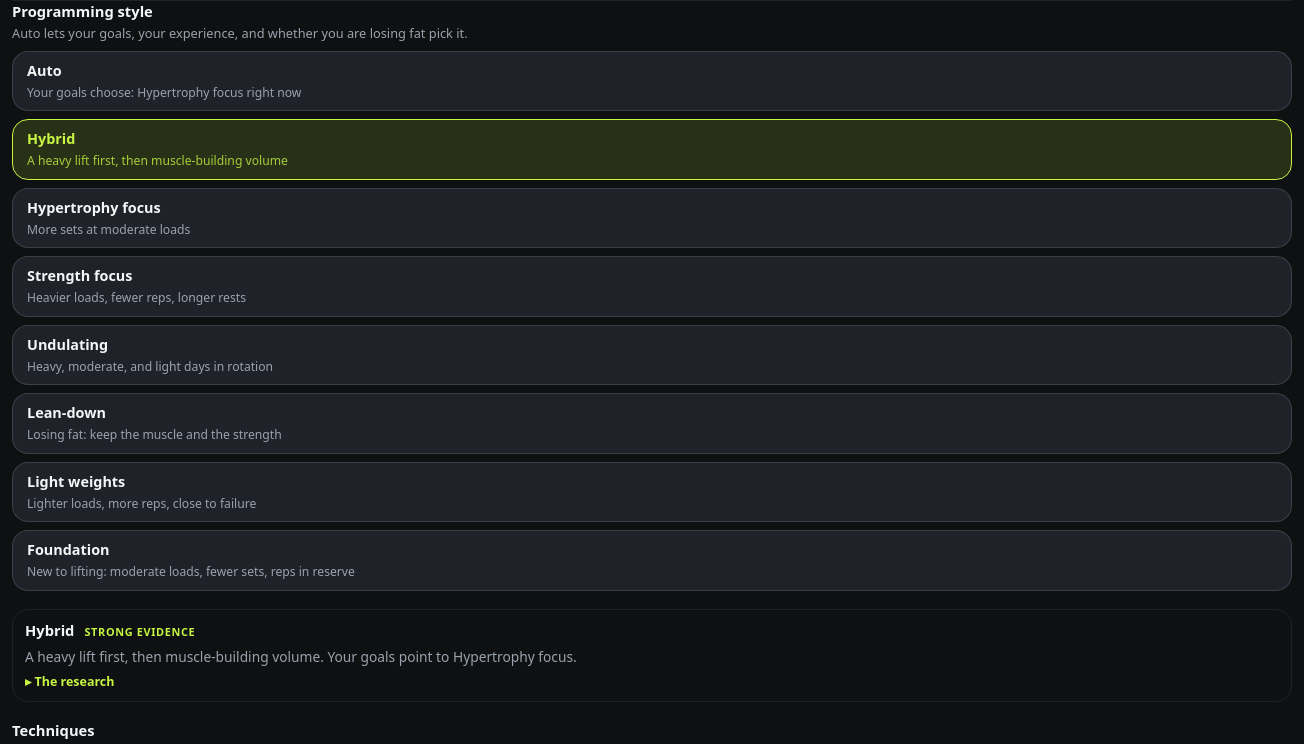
it: the Programming style control › a style picked by hand stands, says where the goals point, and marks mixed evidence
(page scrolled)
Click the radio button labelled "Undulating Heavy, moderate, and light days in rotation": (68, 344) 12,325 -> 1292,385
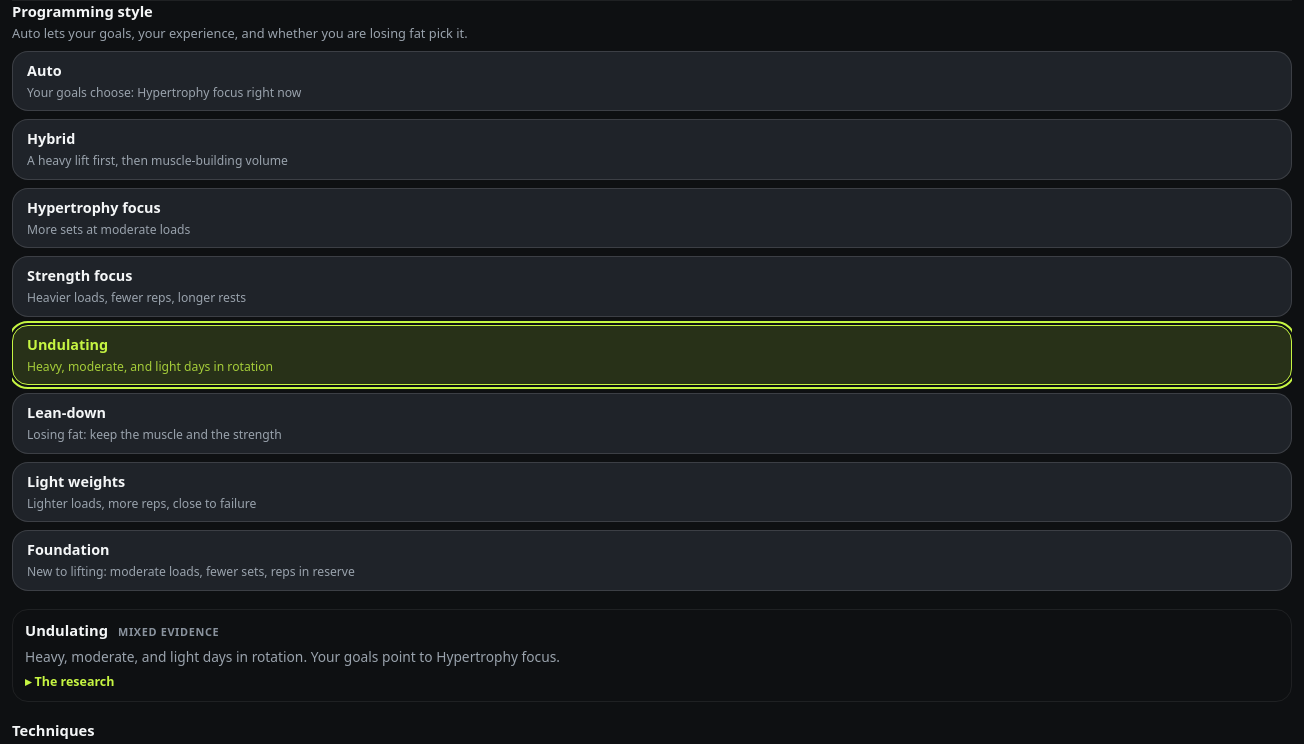
Check: the element with test id "style-why" shows "Your goals point to Hypertrophy focus.", box 307,647 -> 560,666
Check: the element with test id "style-why" shows "Undulating", box 25,620 -> 108,640
Check: the element with test id "style-why" shows "Mixed evidence", box 118,624 -> 219,639
